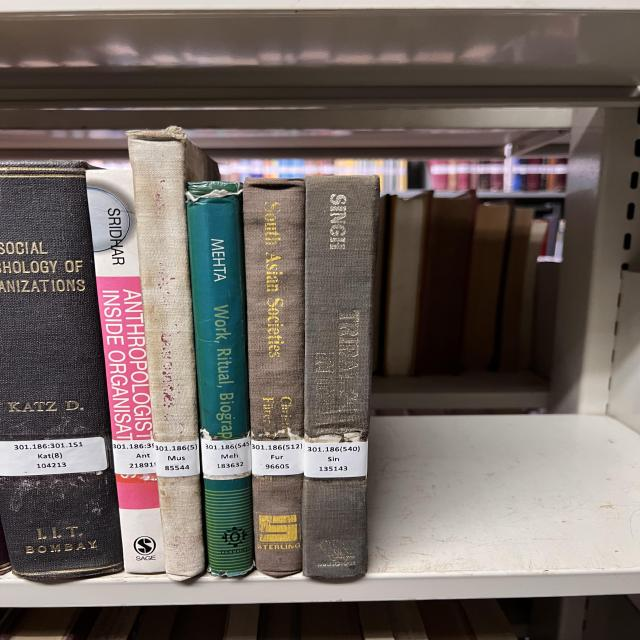Book: (0, 162, 123, 580), (127, 126, 218, 580), (87, 170, 165, 574), (302, 176, 378, 579), (187, 181, 253, 576), (243, 179, 305, 578)
Label: (0, 436, 108, 476), (303, 441, 368, 478), (200, 436, 252, 476), (153, 440, 200, 478), (252, 440, 303, 475), (112, 439, 157, 475)
